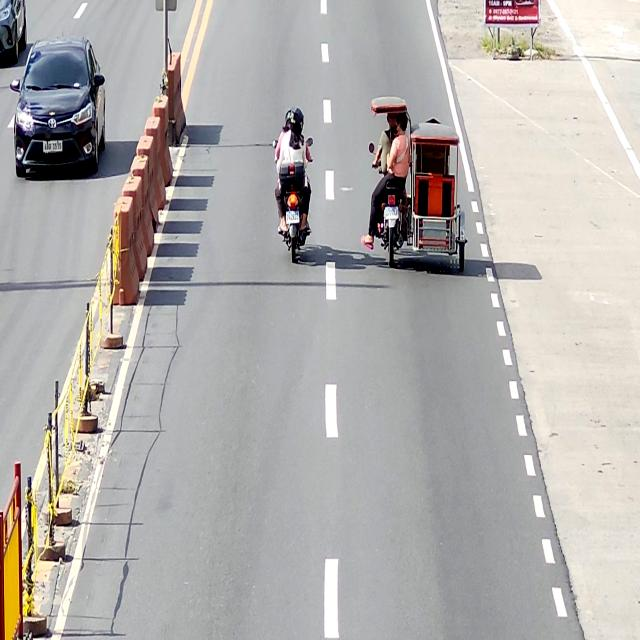Car: (9, 35, 106, 178)
License-Plate: (380, 201, 402, 221), (284, 205, 302, 228), (42, 138, 63, 155)
Motorcycle: (368, 141, 411, 267), (273, 136, 313, 263)
Tricycle: (364, 95, 467, 271)
